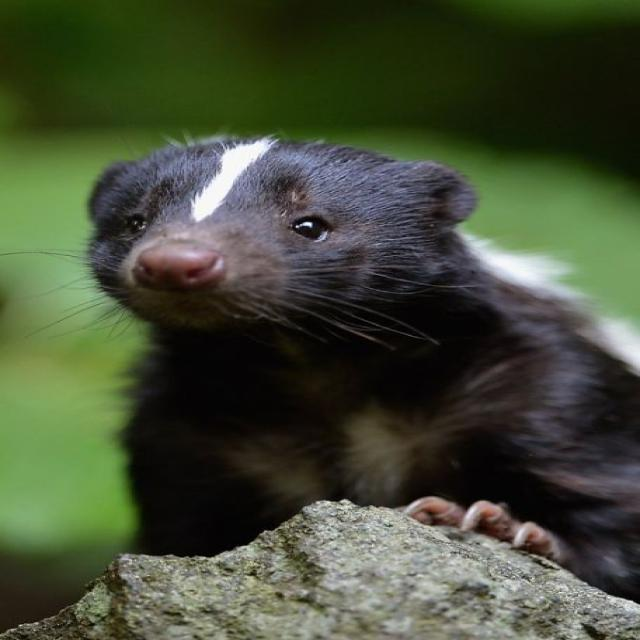Skunk: (32, 111, 640, 576)
